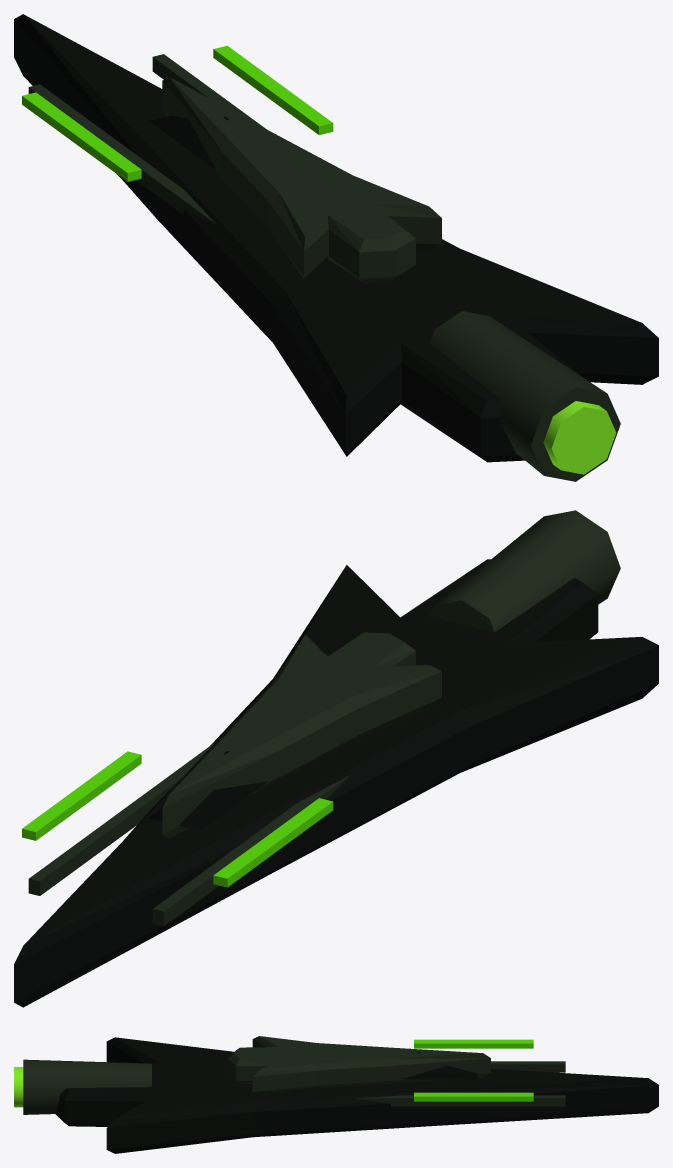
The model's file is Interceptor.obj.
The picture shows the model from 3 angles, top to bottom: view 1: azimuth 30°, elevation 25°; view 2: azimuth 150°, elevation 25°; view 3: azimuth 270°, elevation 25°; orthographic projection. The views are drawn at different scales.
Visible parts, largest first — view 1: interceptor_hull, interceptor_spine, interceptor_engine_nacelle, interceptor_stripe, interceptor_railgun, interceptor_engine_bell, interceptor_canopy; view 2: interceptor_hull, interceptor_spine, interceptor_engine_nacelle, interceptor_railgun, interceptor_stripe, interceptor_canopy; view 3: interceptor_hull, interceptor_spine, interceptor_engine_nacelle, interceptor_stripe, interceptor_railgun, interceptor_canopy, interceptor_engine_bell.
Boxes of the visible parts, <box> form: interceptor_hull: <box>14,14,658,462</box>; interceptor_spine: <box>162,77,441,283</box>; interceptor_engine_nacelle: <box>430,311,620,481</box>; interceptor_stripe: <box>22,45,333,181</box>; interceptor_railgun: <box>28,54,265,224</box>; interceptor_engine_bell: <box>543,401,616,474</box>; interceptor_canopy: <box>149,115,229,170</box>; interceptor_hull: <box>14,559,658,1007</box>; interceptor_spine: <box>162,632,441,838</box>; interceptor_engine_nacelle: <box>430,510,620,632</box>; interceptor_railgun: <box>28,742,350,926</box>; interceptor_stripe: <box>22,751,333,887</box>; interceptor_canopy: <box>149,751,267,830</box>; interceptor_hull: <box>55,1037,658,1153</box>; interceptor_spine: <box>228,1036,490,1095</box>; interceptor_engine_nacelle: <box>23,1059,151,1114</box>; interceptor_stripe: <box>414,1039,533,1101</box>; interceptor_railgun: <box>353,1061,565,1106</box>; interceptor_canopy: <box>401,1052,477,1079</box>; interceptor_engine_bell: <box>14,1067,23,1107</box>.
Bounding box in the file's own units: 2.23 × 0.74 × 7.01.
